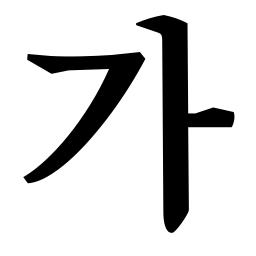Gaji: (147, 94, 215, 152)
